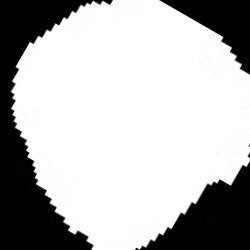spot: (11, 2, 248, 249)
